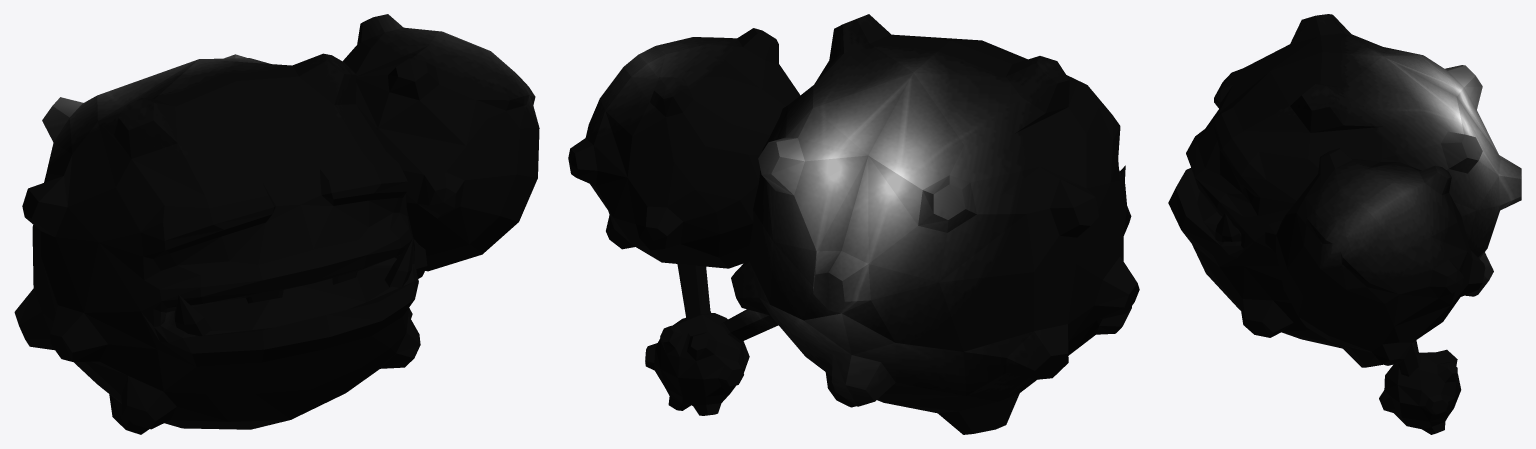
Rendered from 0102_Mesh_C_shuangdanwasi_01.glb.
3 views of the same model, side by side, from view 1: azimuth 30°, elevation 25°; view 2: azimuth 150°, elevation 25°; view 3: azimuth 270°, elevation 25° (orthographic). The views are drawn at different scales.
Size of the model in its own units: 2.2 by 1.55 by 1.64.
Materials: 1 (1 with a texture image).
